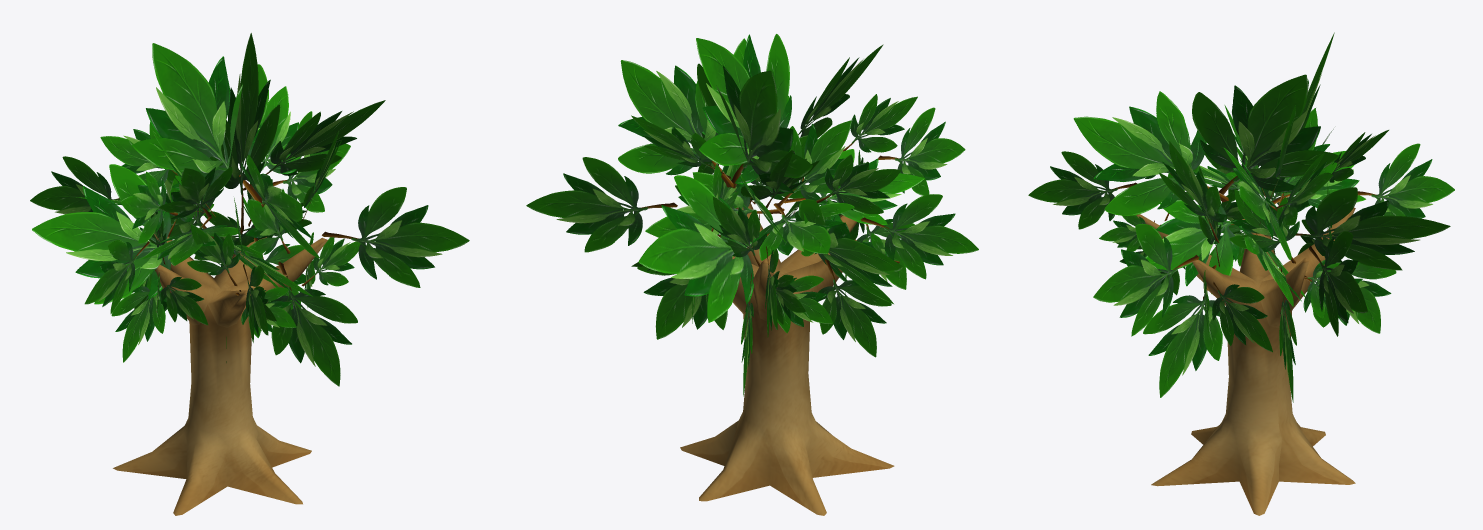
File: tree.fbx
The picture shows the model from 3 angles, left to right: view 1: azimuth 30°, elevation 25°; view 2: azimuth 150°, elevation 25°; view 3: azimuth 270°, elevation 25°; orthographic projection. The views are drawn at different scales.
Parts seen in each view (by area): view 1: tree; view 2: tree; view 3: tree.
Part boxes in pixels (x1,y1,x2,y2): tree: (30,33,469,515); tree: (526,34,978,515); tree: (1028,32,1454,515).
Size of the model in its own units: 1292 by 1435 by 1344.
Materials: 1 (1 with a texture image).
